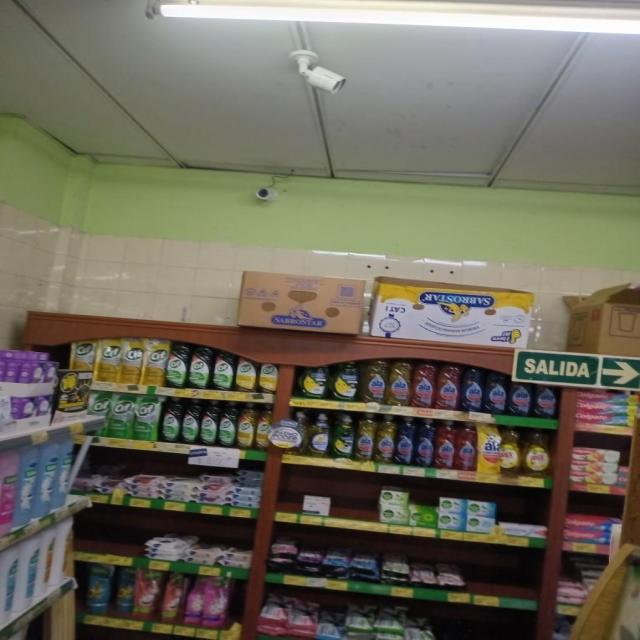ala_conc_amarillo: (388, 359, 411, 406), (362, 360, 386, 404), (355, 412, 375, 462), (376, 414, 395, 464)
ala_conc_azul: (462, 367, 484, 412), (485, 370, 507, 414), (508, 378, 532, 417), (533, 382, 558, 418), (396, 416, 414, 466), (416, 418, 434, 467)
ala_conc_rojo: (436, 364, 460, 411), (412, 361, 435, 408), (456, 421, 477, 471), (435, 419, 455, 469)
ala_sachet_amarillo: (478, 422, 500, 473), (501, 425, 521, 475)
cif_conc_bot_amarilla: (235, 355, 258, 392), (238, 401, 255, 450), (258, 360, 280, 393), (256, 403, 270, 451)
cif_conc_botella_verde: (166, 341, 188, 388), (189, 345, 211, 389), (212, 349, 235, 391), (161, 397, 181, 443), (219, 400, 236, 447), (201, 399, 218, 446), (182, 398, 199, 445)
cif_conc_sachet_amarillo: (96, 337, 121, 383), (144, 338, 166, 387), (121, 337, 142, 385)
cif_conc_sachet_verde: (134, 394, 160, 441), (109, 392, 133, 438)
magistral_con_amarillo: (306, 413, 331, 458)
odex: (523, 427, 552, 475)
